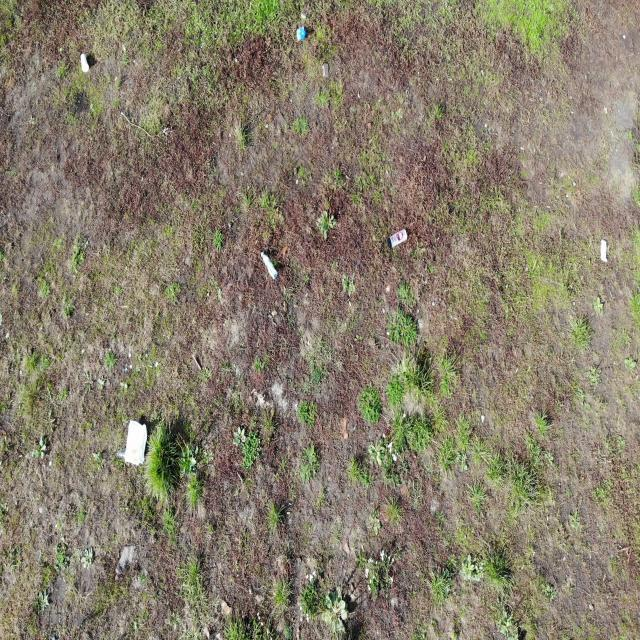rubbish: (117, 421, 147, 465), (260, 252, 279, 282), (388, 229, 408, 248), (79, 53, 90, 73), (600, 241, 607, 265), (296, 27, 307, 41)
